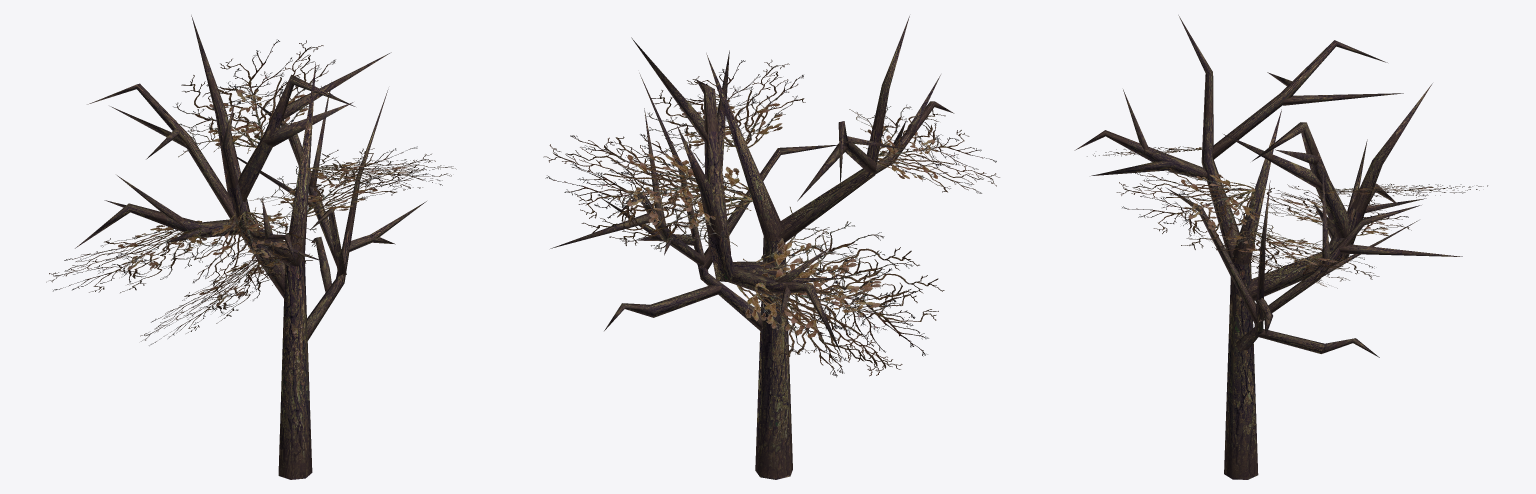
The model's file is plant_tree_01.fbx.
3 views of the same model, side by side, from view 1: azimuth 30°, elevation 25°; view 2: azimuth 150°, elevation 25°; view 3: azimuth 270°, elevation 25° (orthographic). The views are drawn at different scales.
Visible parts, largest first — view 1: tree_01, tree_01.003, tree_01.001, tree_01.004, tree_01.006, tree_01.005, tree_01.002; view 2: tree_01, tree_01.004, tree_01.005, tree_01.003, tree_01.006, tree_01.001, tree_01.002; view 3: tree_01, tree_01.002, tree_01.006, tree_01.004, tree_01.003.
Boxes of the visible parts, left/top/right/bottom form: tree_01: left=75, top=15, right=426, bottom=479; tree_01.003: left=173, top=39, right=335, bottom=157; tree_01.001: left=193, top=203, right=316, bottom=297; tree_01.004: left=46, top=220, right=231, bottom=292; tree_01.006: left=249, top=146, right=435, bottom=216; tree_01.005: left=140, top=254, right=308, bottom=345; tree_01.002: left=306, top=155, right=456, bottom=190; tree_01: left=550, top=16, right=954, bottom=479; tree_01.004: left=754, top=235, right=944, bottom=375; tree_01.005: left=736, top=207, right=919, bottom=377; tree_01.003: left=543, top=135, right=737, bottom=251; tree_01.006: left=570, top=134, right=753, bottom=248; tree_01.001: left=849, top=105, right=999, bottom=193; tree_01.002: left=646, top=59, right=805, bottom=156; tree_01: left=1074, top=15, right=1462, bottom=479; tree_01.002: left=1116, top=166, right=1280, bottom=249; tree_01.006: left=1212, top=231, right=1379, bottom=282; tree_01.004: left=1249, top=182, right=1411, bottom=235; tree_01.003: left=1320, top=183, right=1487, bottom=197.
Bounding box in the file's own units: 394 × 413 × 422.
